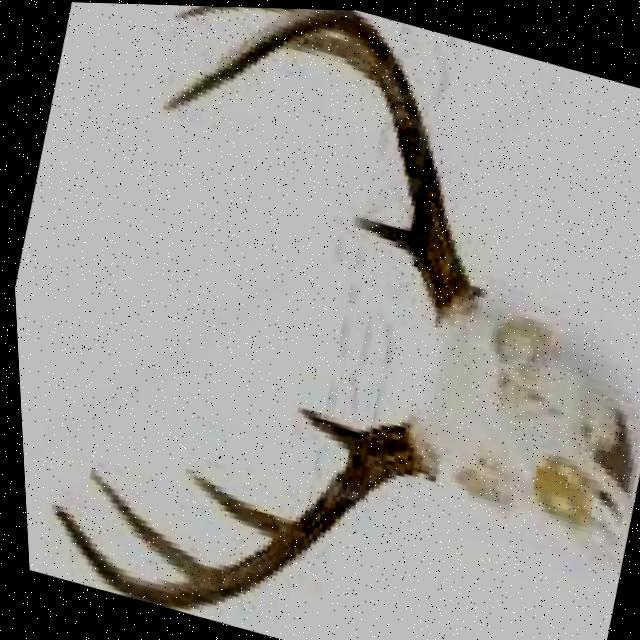L-F: (41, 411, 432, 611)
L-G1: (288, 404, 359, 452)
L-G2: (178, 466, 287, 538)
L-G3: (79, 470, 213, 583)
R-F: (161, 7, 483, 326)
R-G1: (347, 212, 409, 255)
